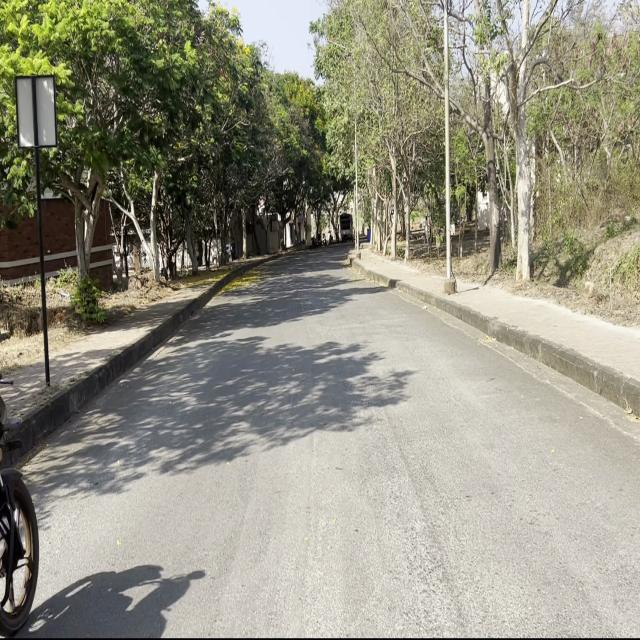Road: (0, 245, 638, 630)
